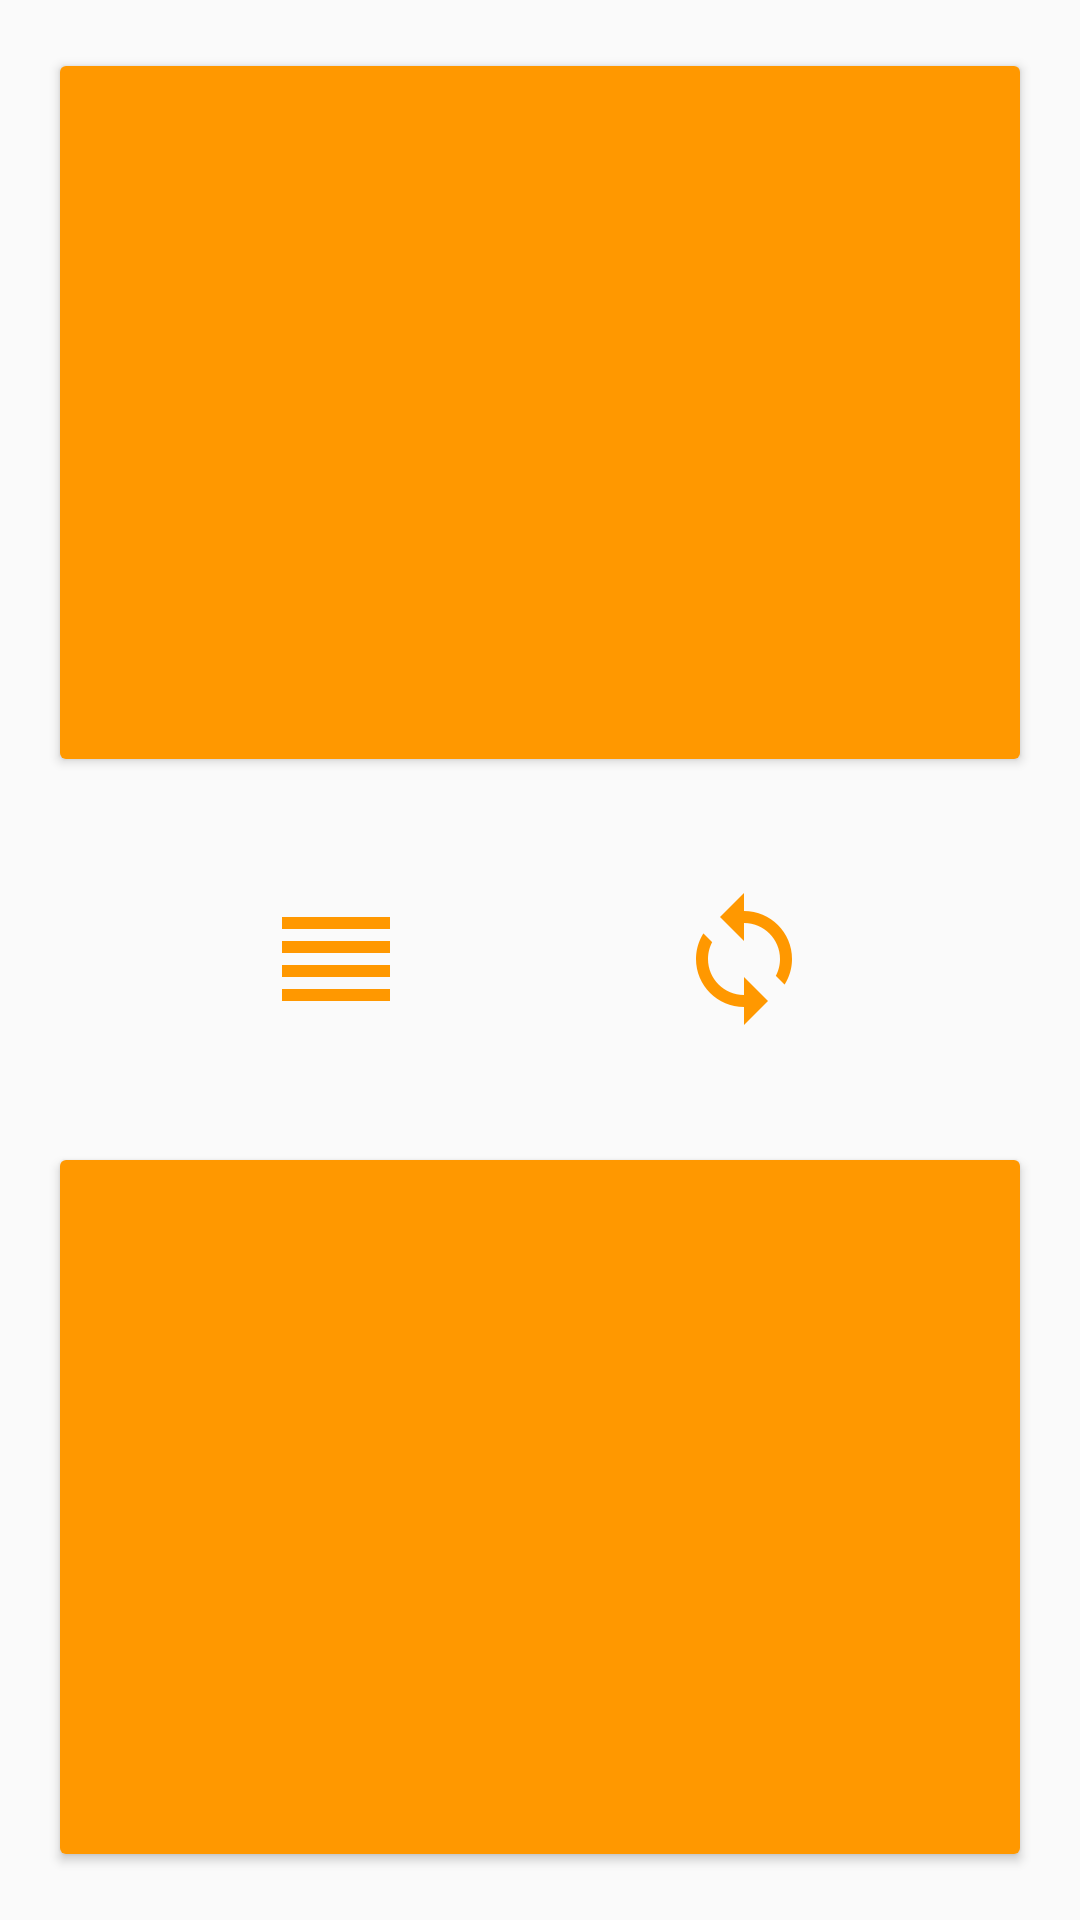

Icons on this 1080px x 1920px Android screen, each with its box as (x1, y1, x2, y2):
menu: (282, 917, 390, 1001)
repeat: (696, 893, 792, 1025)
